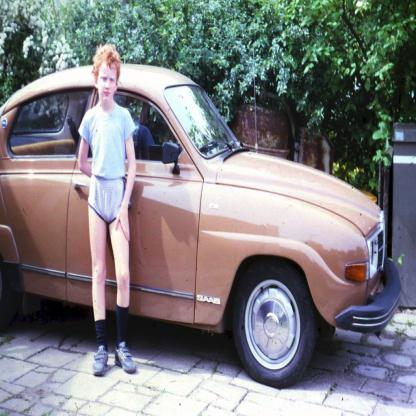Car: (0, 64, 401, 388)
